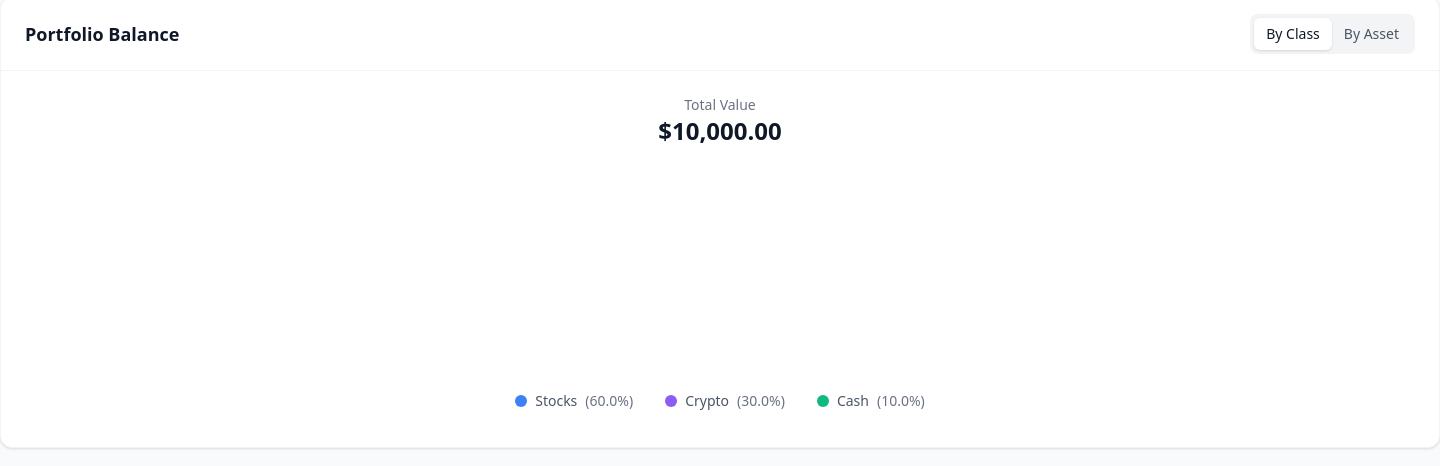
Test: DonutChart › switches to asset view when By Asset is clicked
The image size is (1440, 466).
Click the button "By Asset" at (1371, 34), box top-left (1332, 18), bottom-right (1411, 50)
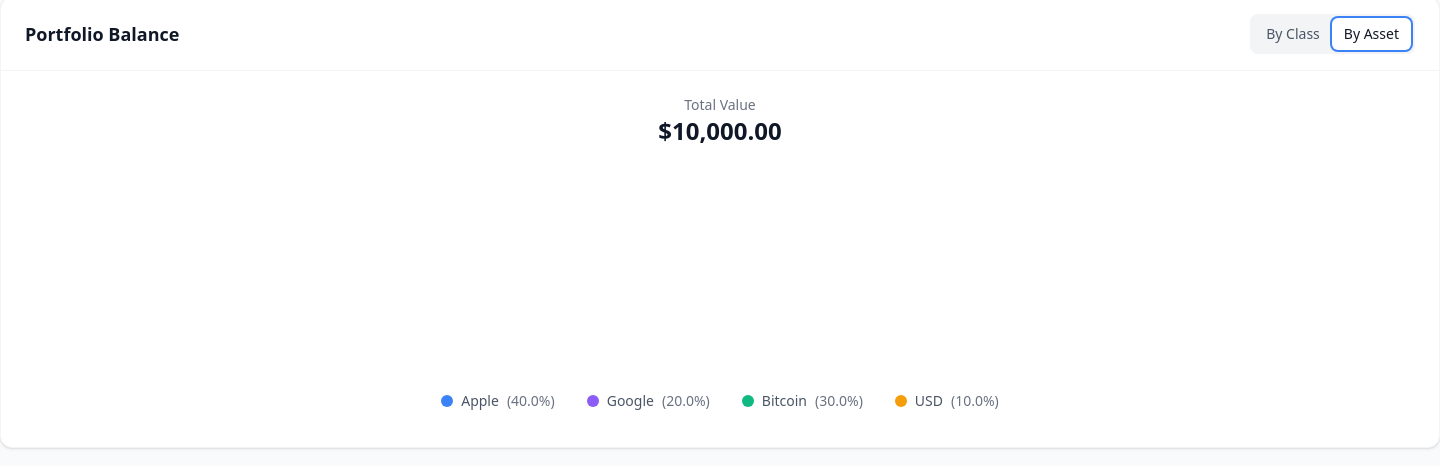
Now the option "Apple (40.0%)" is shown, box top-left (433, 387), bottom-right (563, 415)
Now the option "Google (20.0%)" is shown, box top-left (579, 387), bottom-right (718, 415)
Now the option "Bitcoin (30.0%)" is shown, box top-left (734, 387), bottom-right (871, 415)
